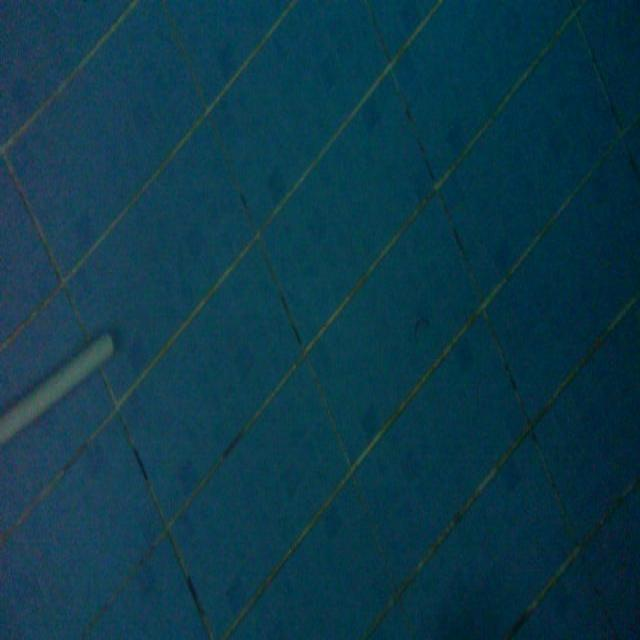Cube: (0, 324, 117, 448)
